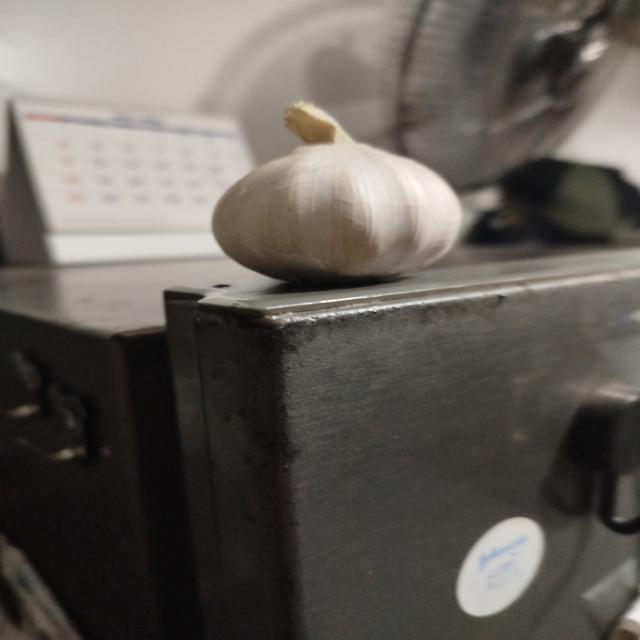garlic: (211, 100, 464, 286)
